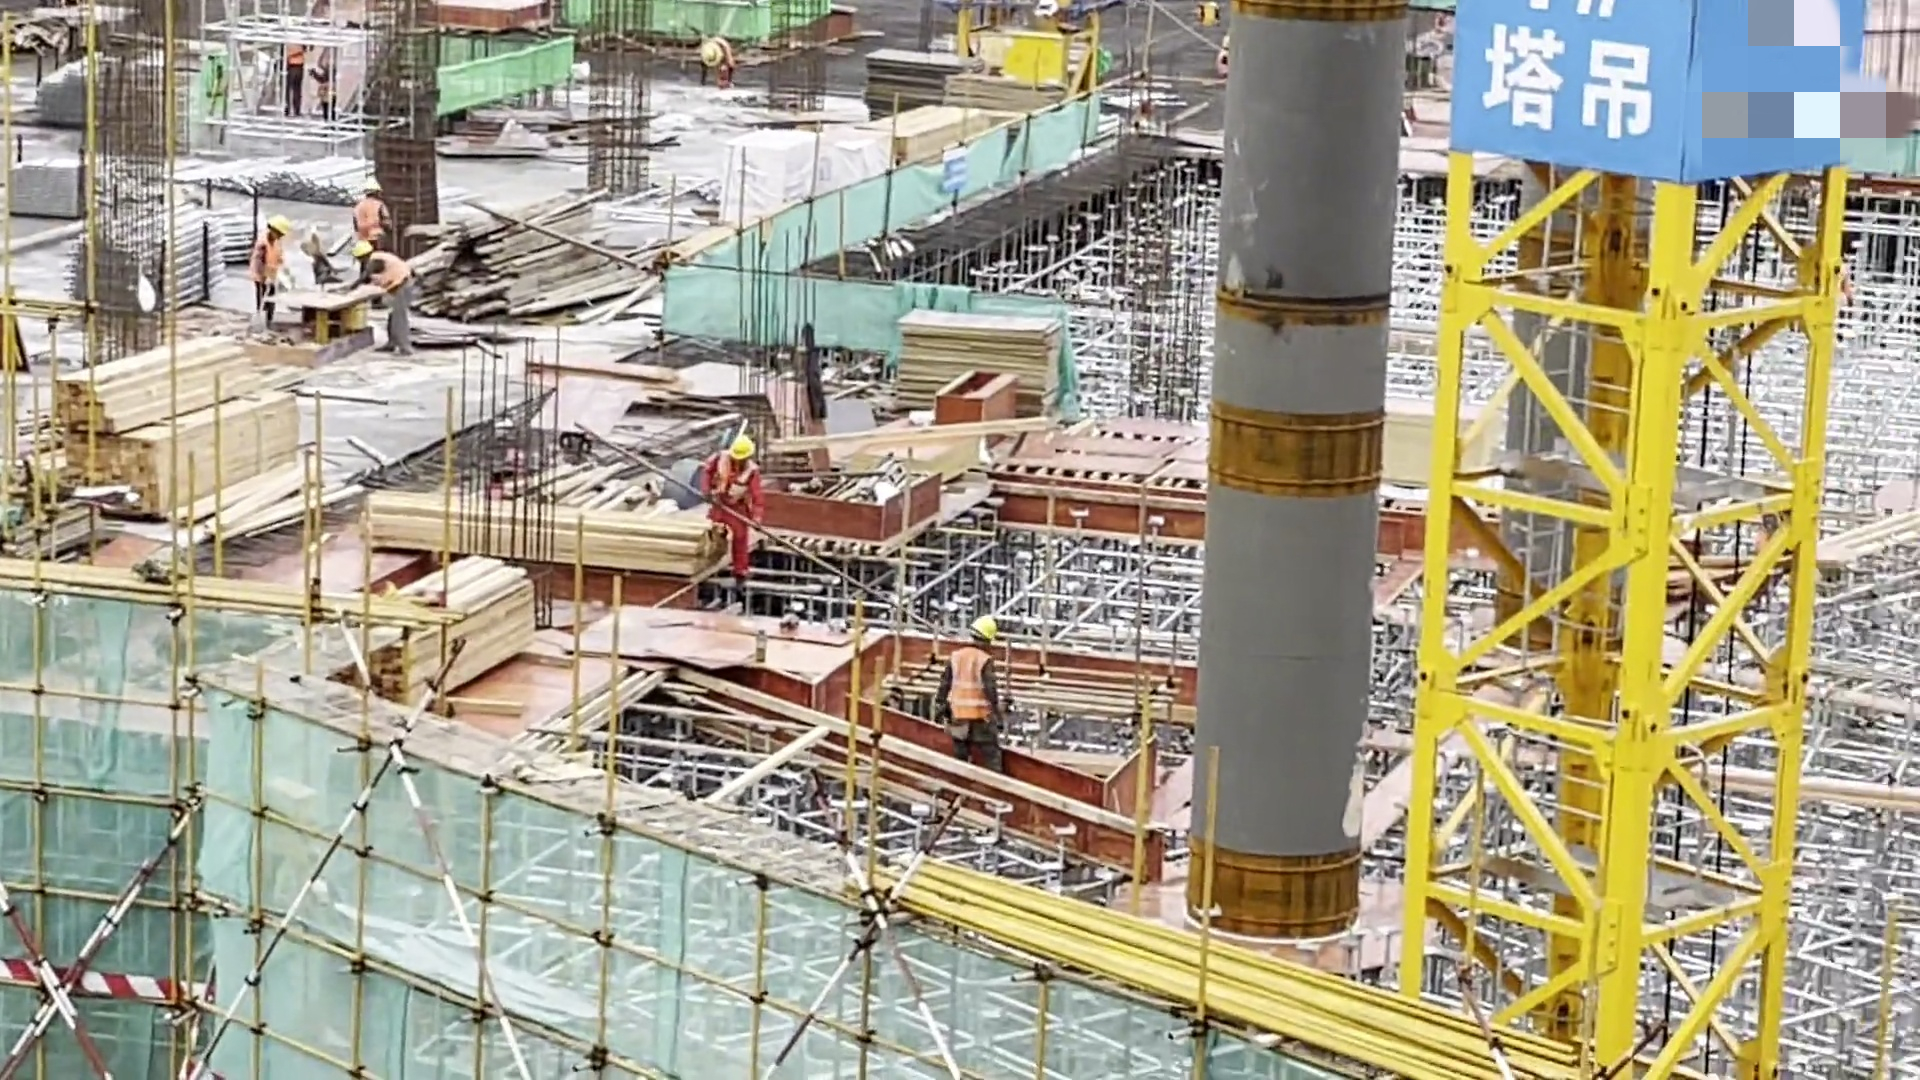ebox: (1004, 22, 1075, 95)
helmet: (965, 615, 1007, 653), (731, 431, 764, 472), (266, 208, 290, 235), (358, 175, 383, 195), (346, 243, 371, 260)
person: (693, 430, 773, 592), (944, 617, 1015, 769), (341, 241, 420, 355), (234, 211, 285, 305), (348, 175, 392, 245), (270, 34, 306, 114)
vest: (710, 452, 754, 526), (949, 660, 990, 718), (247, 234, 283, 275), (350, 198, 389, 234), (363, 255, 405, 282), (281, 45, 300, 64)
wood: (44, 336, 292, 513), (348, 474, 715, 574), (357, 552, 559, 703)
